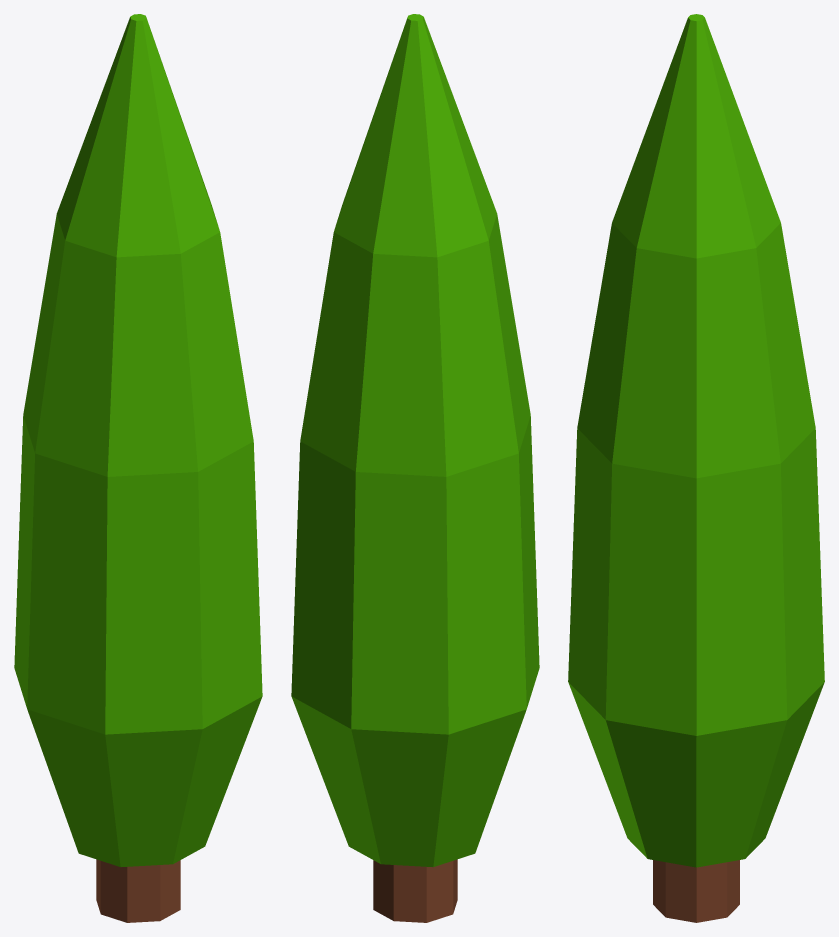
The model's file is cypress_tree.fbx.
3 views of the same model, side by side, from view 1: azimuth 30°, elevation 25°; view 2: azimuth 150°, elevation 25°; view 3: azimuth 270°, elevation 25° (orthographic).
Parts seen in each view (by area): view 1: Cylinder, Cylinder.001; view 2: Cylinder, Cylinder.001; view 3: Cylinder, Cylinder.001.
Boxes of the visible parts, x1,y1,x2,y2 form: Cylinder: (14,14,262,866); Cylinder.001: (96,859,180,922); Cylinder: (291,14,539,866); Cylinder.001: (373,859,457,922); Cylinder: (568,14,824,867); Cylinder.001: (653,860,739,922).
Size of the model in its own units: 56.7 by 216 by 56.7.
